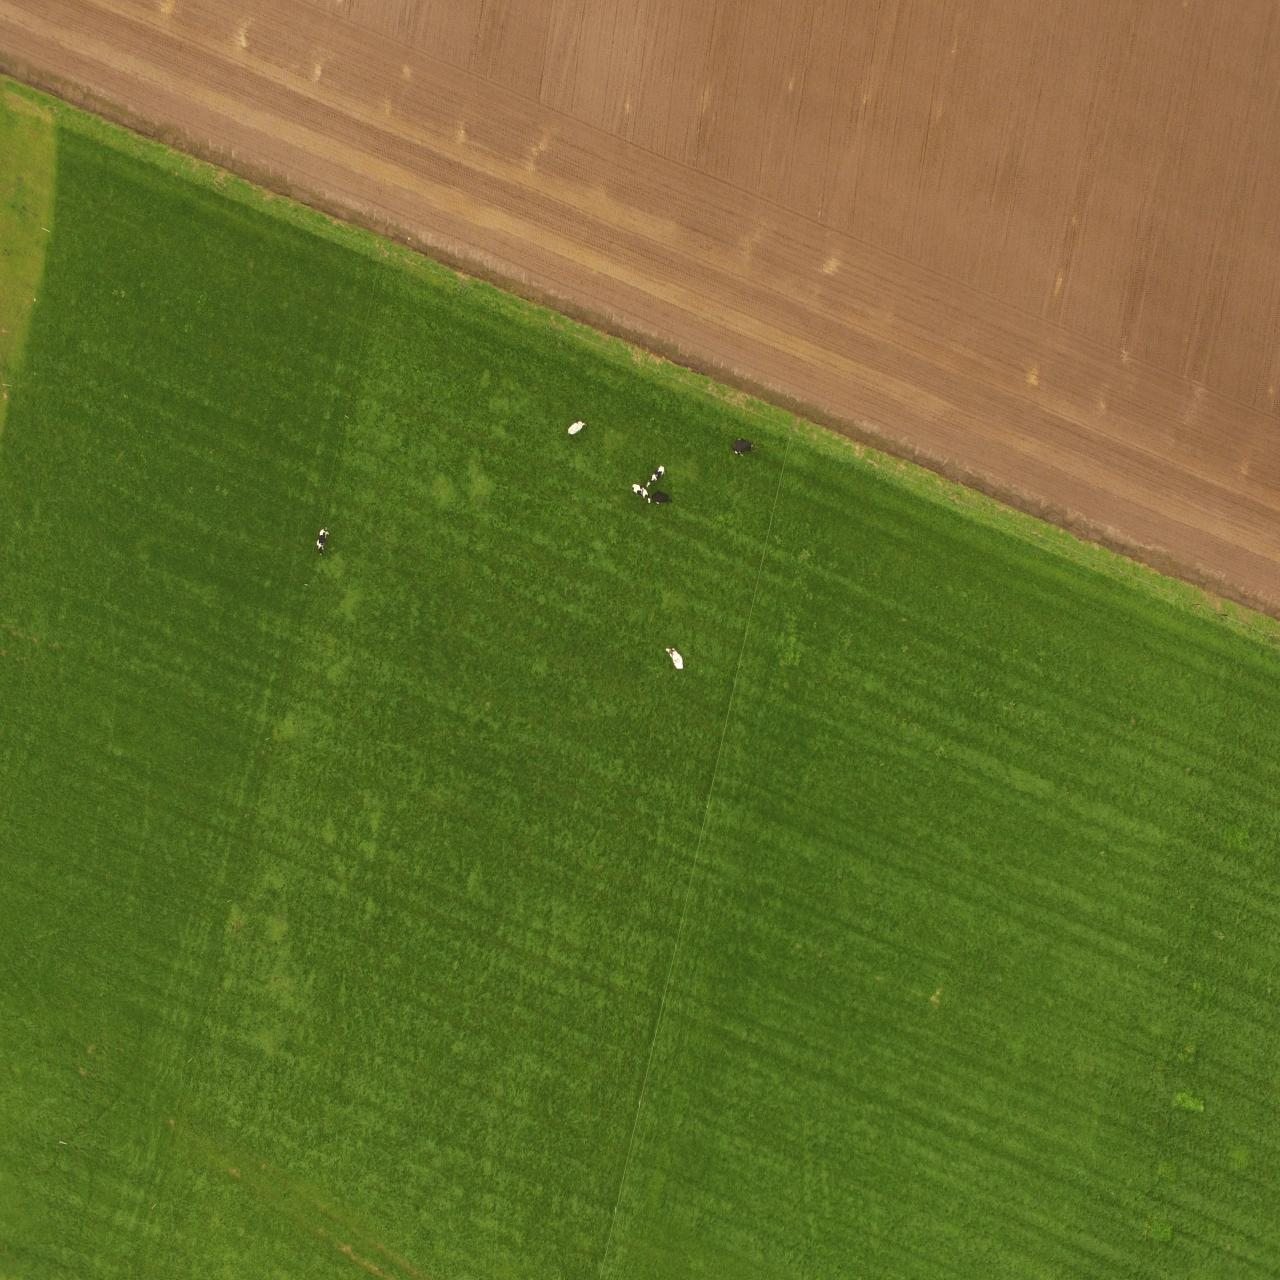cow: (663, 646, 687, 674), (731, 436, 756, 457), (648, 491, 674, 508), (318, 526, 331, 557), (648, 464, 663, 486), (566, 420, 586, 436), (629, 482, 647, 498)
